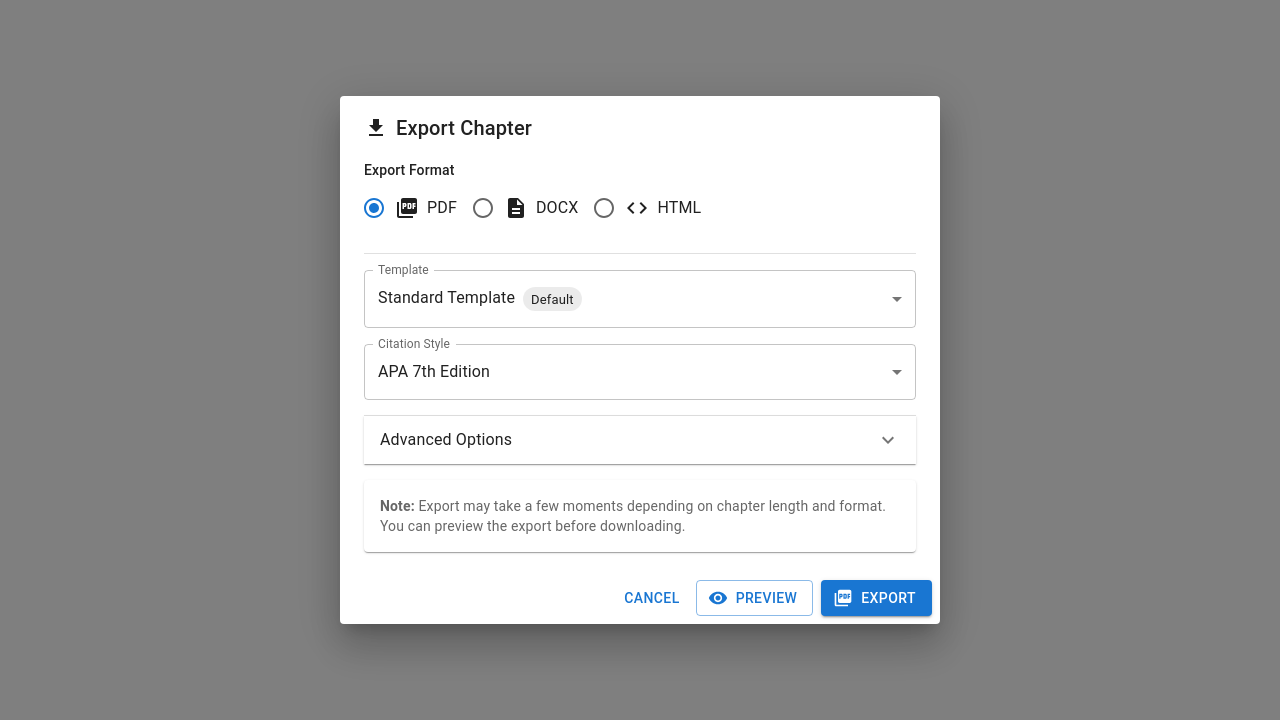
Test: ExportDialog Component › Advanced Options › should have Include Bibliography checked by default
# Expand Advanced Options accordion
Click the button "Advanced Options": (446, 439) [380,428,900,452]
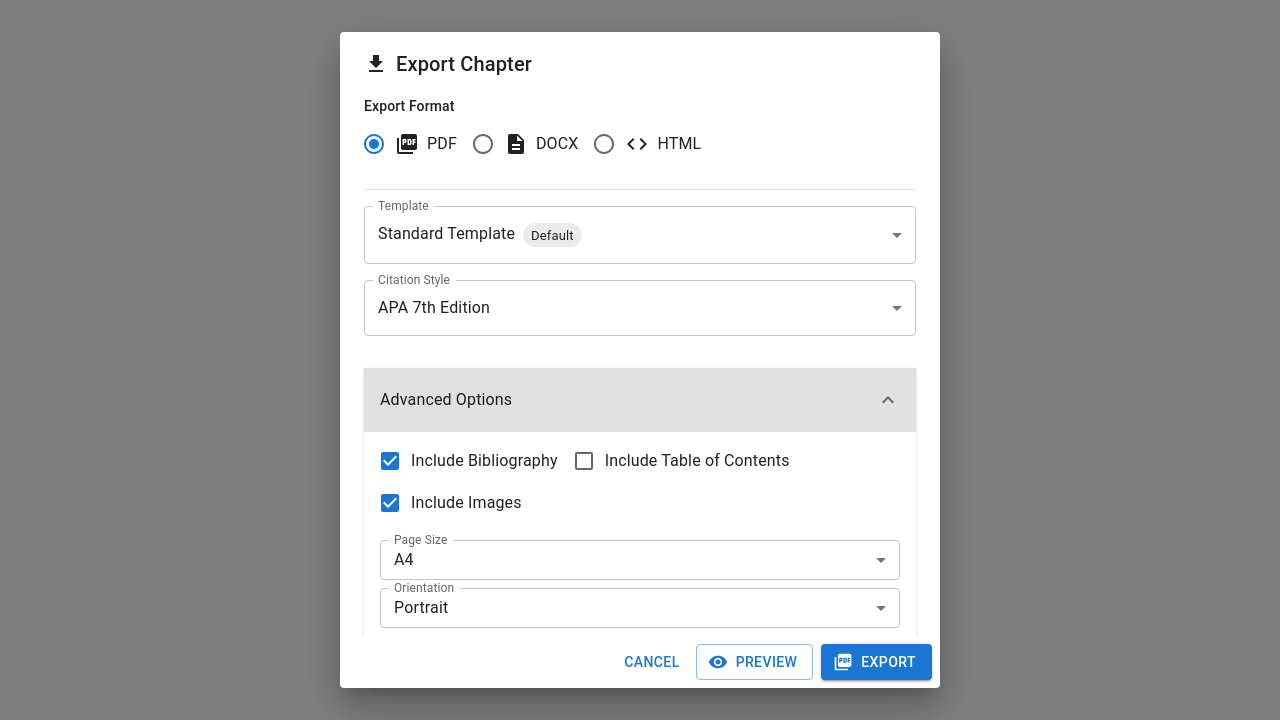
Expected: the checkbox labelled "Include Bibliography" is checked, [378,449,558,473]
